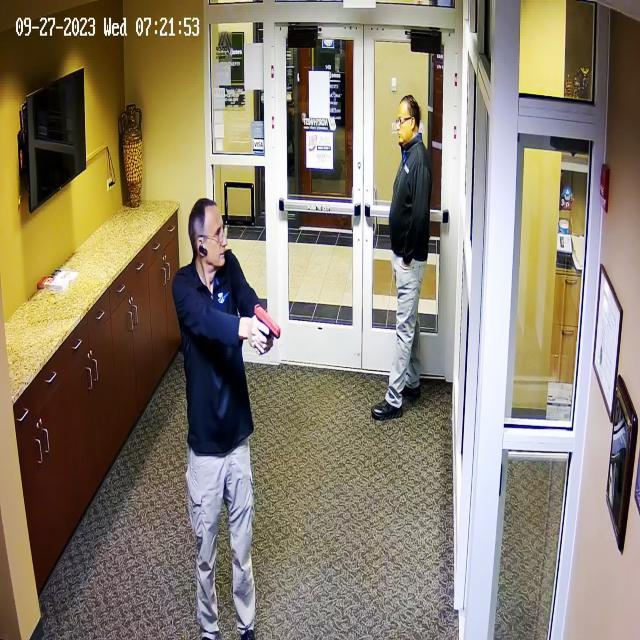Gun: (246, 302, 289, 360)
